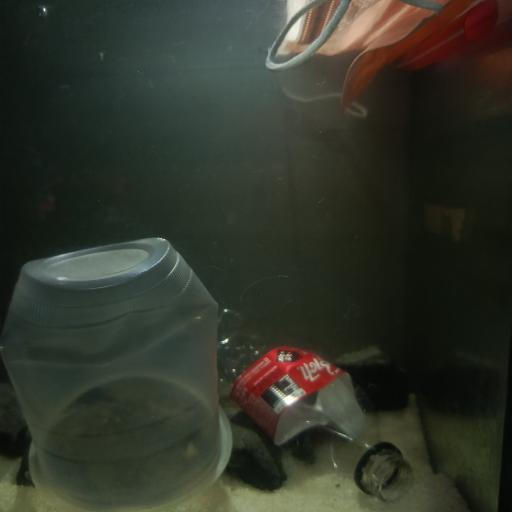mask: (262, 0, 512, 114)
plastic_bottle: (209, 296, 410, 498)
plastic_cup: (7, 230, 234, 512)
